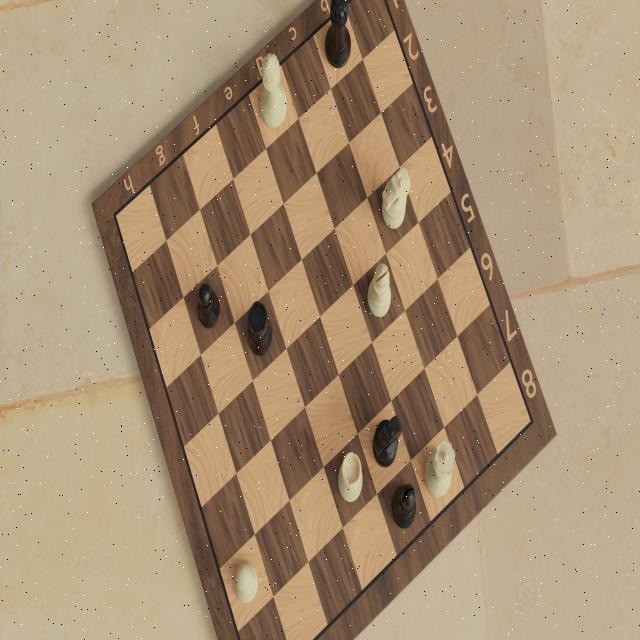black-bishop: (390, 482, 417, 530)
black-king: (324, 0, 352, 70)
black-knight: (371, 413, 403, 469)
black-pawn: (195, 282, 220, 330)
black-rook: (246, 299, 274, 357)
white-bishop: (366, 261, 393, 319)
white-king: (259, 53, 289, 131)
white-knight: (380, 165, 411, 231)
white-pawn: (233, 558, 258, 605)
white-queen: (423, 439, 456, 501)
white-rook: (336, 448, 363, 503)
